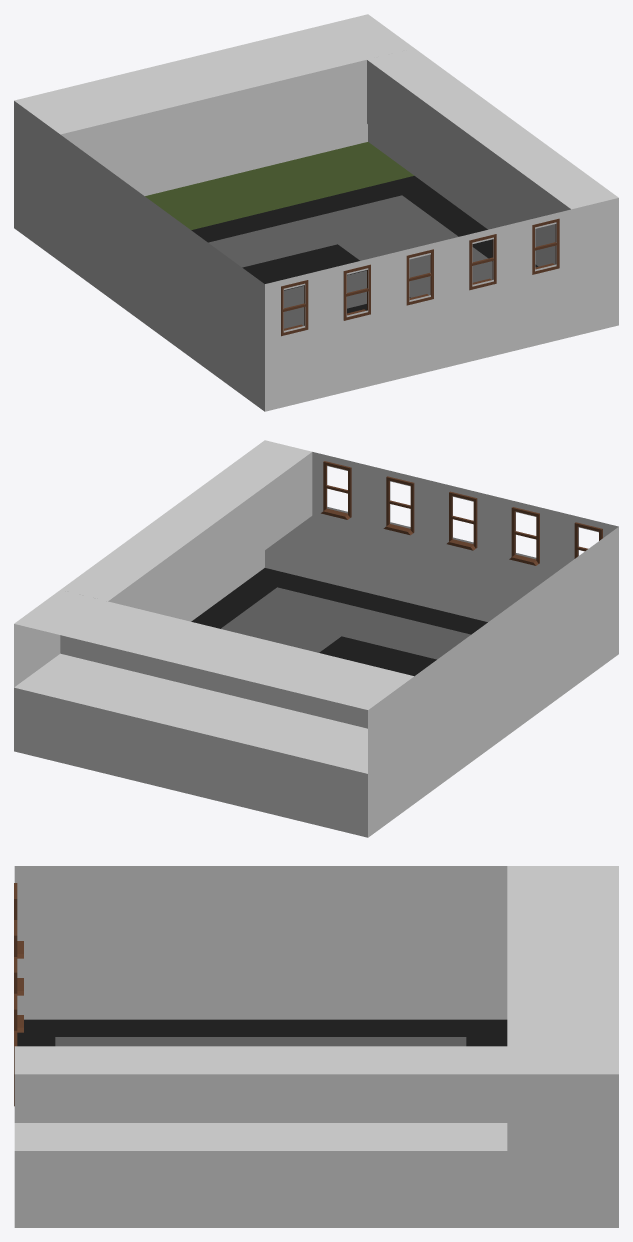
Rendered from Training.fbx.
The picture shows the model from 3 angles, top to bottom: view 1: azimuth 30°, elevation 25°; view 2: azimuth 150°, elevation 25°; view 3: azimuth 270°, elevation 25°; orthographic projection. The views are drawn at different scales.
Parts seen in each view (by area): view 1: Plane; view 2: Plane; view 3: Plane.
Boxes of the visible parts, x1,y1,x2,y2 form: Plane: [14, 14, 618, 411]; Plane: [14, 440, 618, 837]; Plane: [14, 866, 618, 1227].
Bounding box in the file's own units: 3380 × 1164 × 4151.
